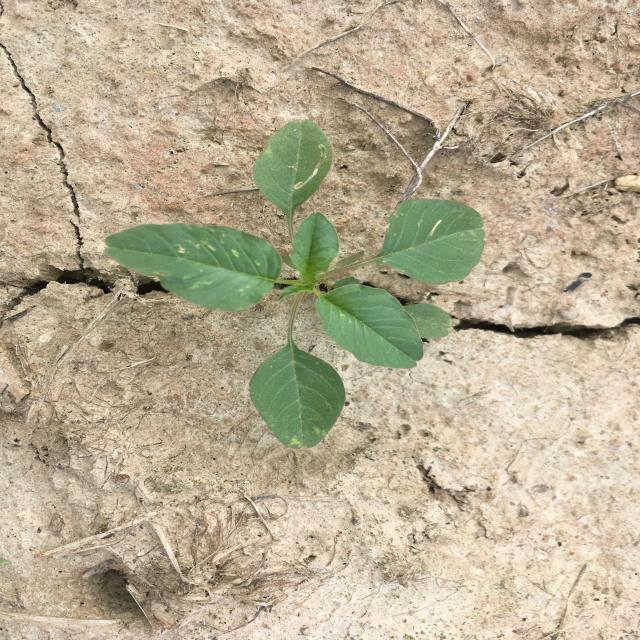PalmerAmaranth: (104, 120, 485, 449)
